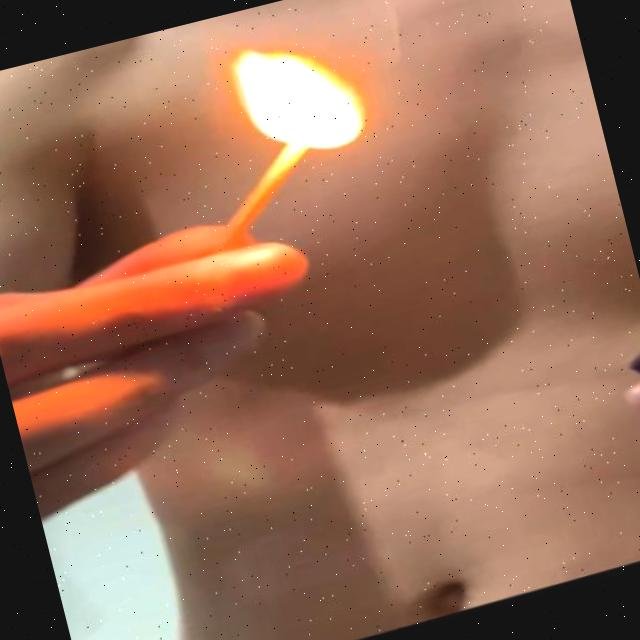fire: (213, 13, 378, 180)
